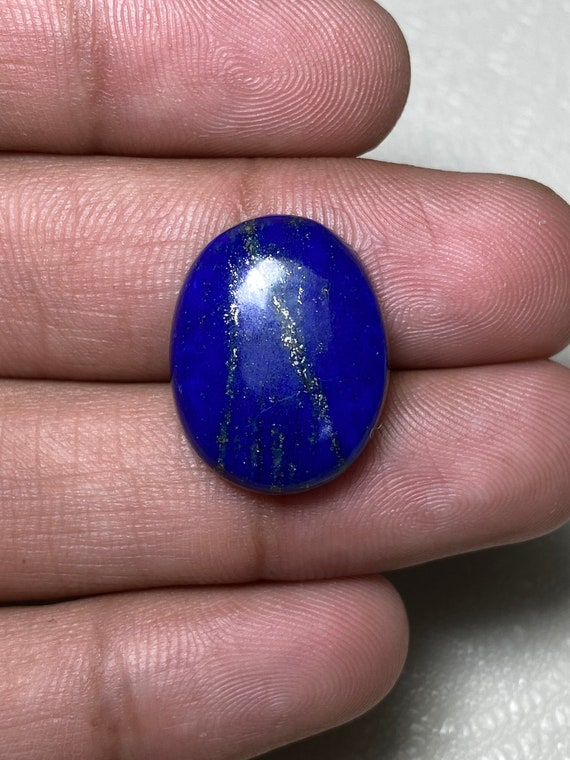Lapis_Lazuli: (168, 214, 393, 500)
